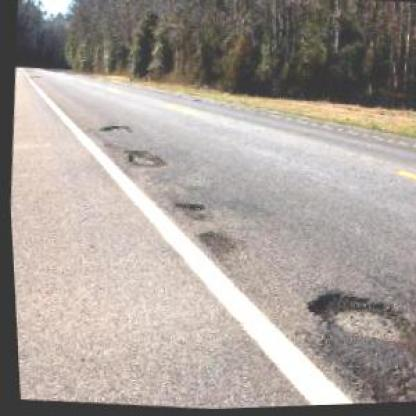pothole: (301, 287, 409, 349), (193, 227, 237, 261), (121, 147, 166, 173), (169, 198, 207, 222), (99, 121, 133, 137)
